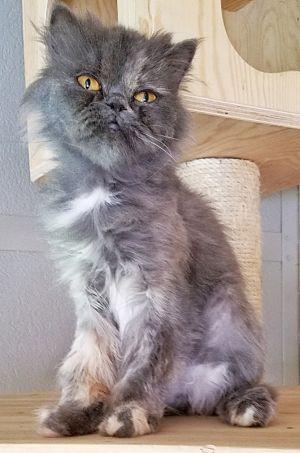persian: (25, 1, 212, 203)
